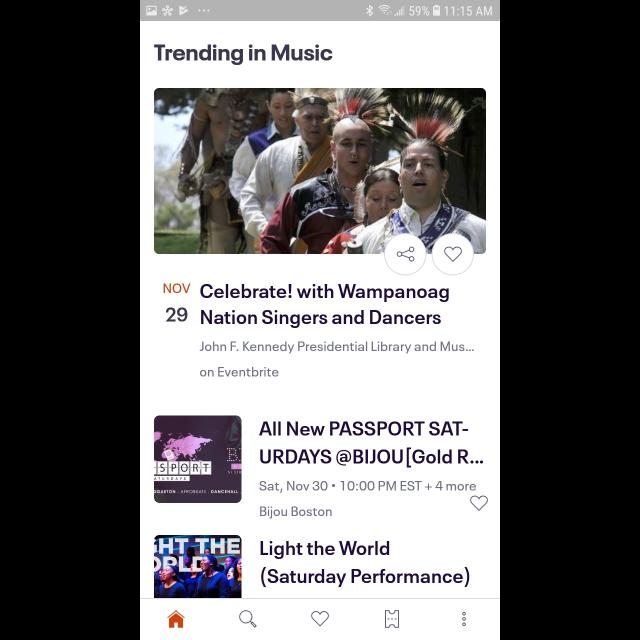icon: (384, 233, 426, 275), (432, 234, 474, 276), (167, 610, 185, 628), (239, 610, 257, 628), (470, 496, 488, 512), (311, 612, 329, 626), (385, 610, 399, 628), (462, 612, 466, 626)
image: (154, 89, 486, 255), (154, 416, 242, 502), (154, 536, 242, 598)
text: (200, 284, 448, 328), (259, 422, 483, 468), (200, 342, 474, 378), (260, 541, 470, 587), (260, 481, 476, 519), (154, 46, 333, 66), (166, 308, 188, 322), (163, 283, 190, 293)
uppertaskbar: (140, 1, 500, 22)
